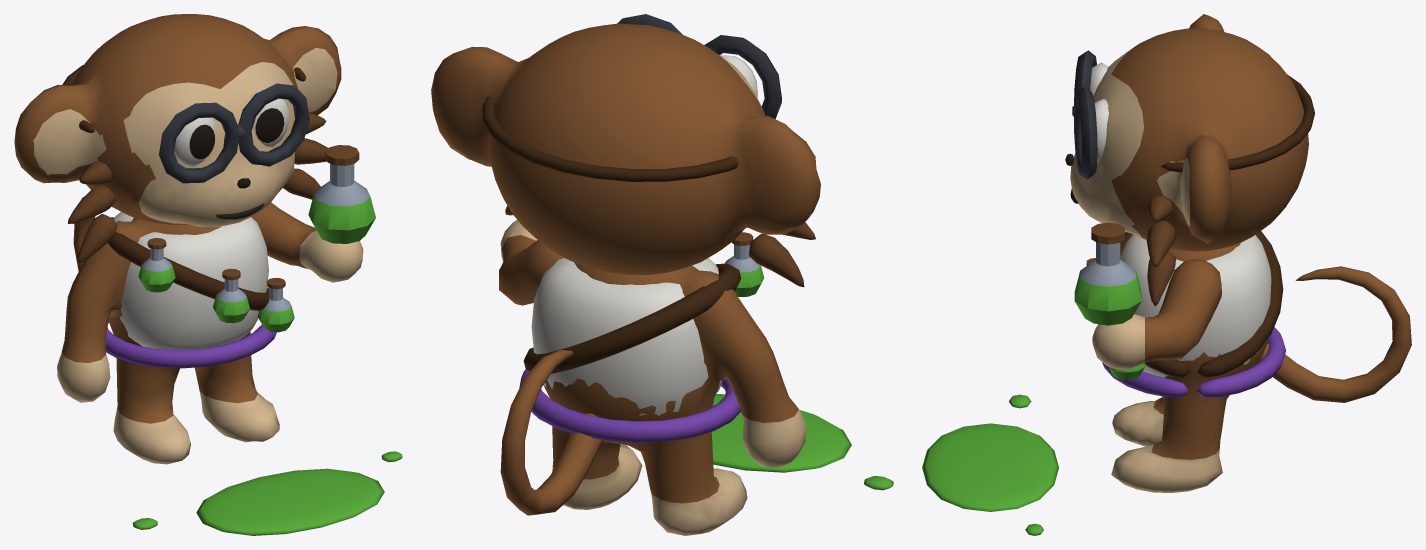
3 views of the same model, side by side, from view 1: azimuth 30°, elevation 25°; view 2: azimuth 150°, elevation 25°; view 3: azimuth 270°, elevation 25° (orthographic). The views are drawn at different scales.
Parts seen in each view (by area): view 1: alquimista_3_cabeca, alquimista_1_corpo, alquimista_0_base, alquimista_4_braco; view 2: alquimista_3_cabeca, alquimista_1_corpo, alquimista_2_cauda, alquimista_0_base, alquimista_4_braco; view 3: alquimista_3_cabeca, alquimista_1_corpo, alquimista_4_braco, alquimista_0_base, alquimista_2_cauda.
Part boxes in pixels (left/top/right/bottom): alquimista_3_cabeca: left=14, top=14, right=341, bottom=263; alquimista_1_corpo: left=57, top=212, right=294, bottom=464; alquimista_0_base: left=132, top=451, right=402, bottom=535; alquimista_4_braco: left=251, top=145, right=375, bottom=282; alquimista_3_cabeca: left=431, top=14, right=820, bottom=287; alquimista_1_corpo: left=519, top=232, right=806, bottom=535; alquimista_2_cauda: left=500, top=350, right=603, bottom=515; alquimista_0_base: left=711, top=393, right=893, bottom=490; alquimista_4_braco: left=499, top=220, right=564, bottom=305; alquimista_3_cabeca: left=1065, top=14, right=1314, bottom=306; alquimista_1_corpo: left=1086, top=231, right=1285, bottom=492; alquimista_4_braco: left=1074, top=222, right=1221, bottom=370; alquimista_0_base: left=922, top=394, right=1058, bottom=535; alquimista_2_cauda: left=1258, top=266, right=1411, bottom=402.
Size of the model in its own units: 0.7918 by 0.9657 by 0.9998.
